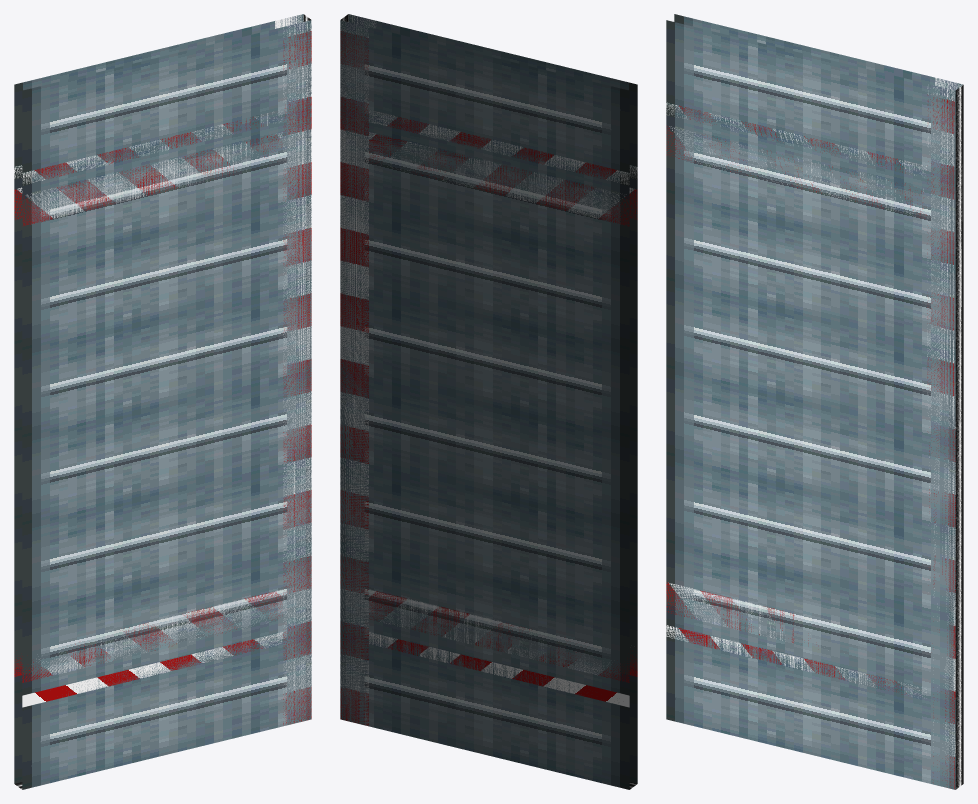
The model's file is Pdoor_st_arec2Z.obj.
The picture shows the model from 3 angles, left to right: view 1: azimuth 30°, elevation 25°; view 2: azimuth 150°, elevation 25°; view 3: azimuth 330°, elevation 25°; orthographic projection.
Bounding box in the file's own units: 606 × 1400 × 30.
3 materials, 3 textured.
